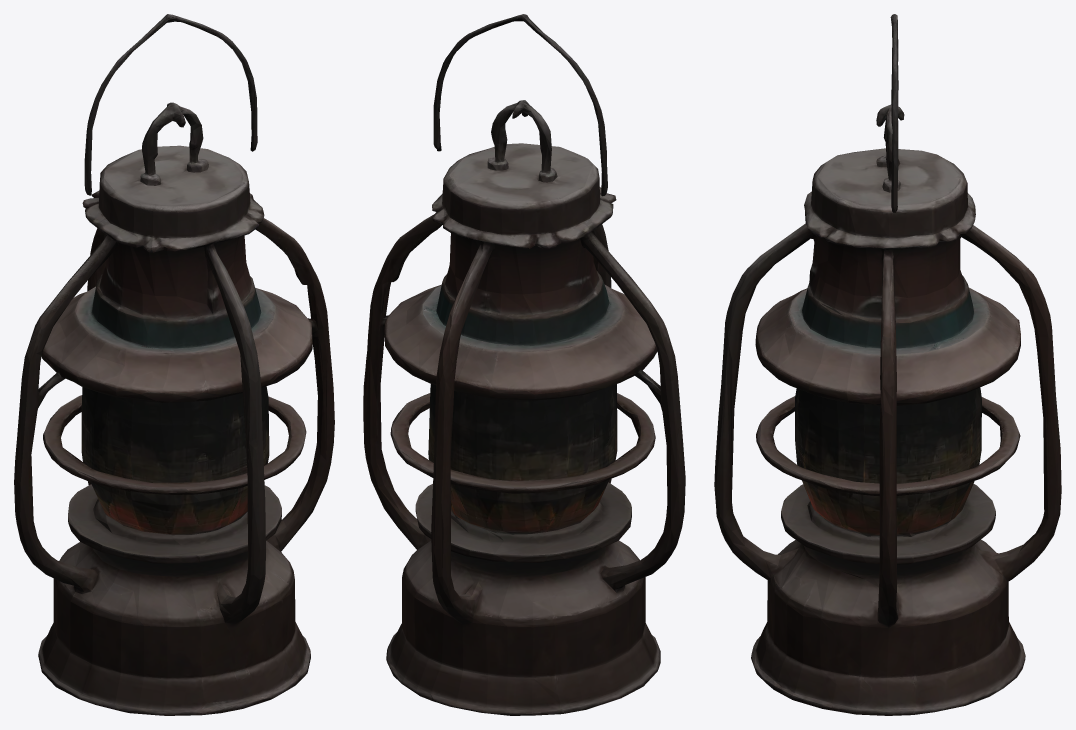
File: lantern.glb
The picture shows the model from 3 angles, left to right: view 1: azimuth 30°, elevation 25°; view 2: azimuth 150°, elevation 25°; view 3: azimuth 270°, elevation 25°; orthographic projection.
Visible parts, largest first — view 1: geometry_0; view 2: geometry_0; view 3: geometry_0.
Boxes of the visible parts, x1,y1,x2,y2 form: geometry_0: [14, 14, 334, 715]; geometry_0: [363, 14, 685, 715]; geometry_0: [714, 14, 1061, 715].
Size of the model in its own units: 0.518 by 1 by 0.4901.
1 material, 1 textured.
